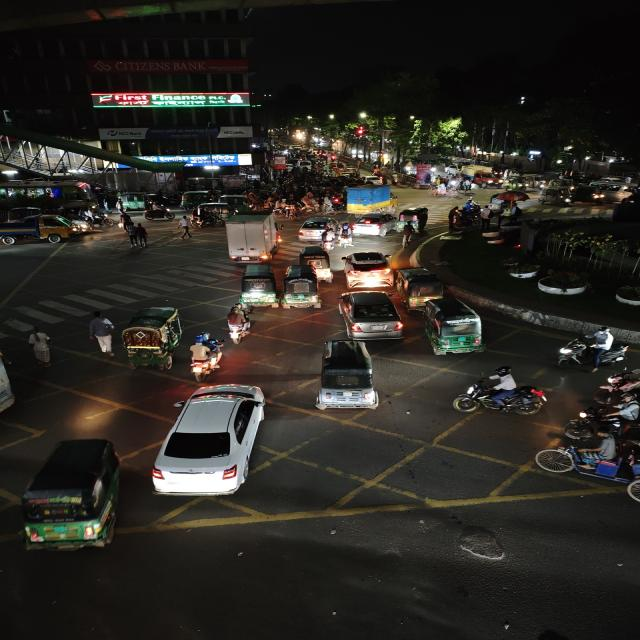bicycle: (396, 223, 418, 252)
bus: (3, 179, 101, 213)
car: (149, 381, 273, 501), (335, 288, 406, 340), (338, 250, 396, 288), (347, 212, 396, 240), (298, 246, 334, 281), (296, 215, 338, 244)
cng: (18, 434, 124, 556), (312, 336, 383, 416), (419, 298, 488, 360), (396, 266, 446, 305), (280, 268, 322, 312), (238, 264, 278, 308), (398, 205, 432, 231), (538, 185, 574, 208), (572, 183, 606, 205), (116, 193, 156, 210), (218, 195, 254, 210), (178, 192, 212, 206), (506, 176, 528, 190)
motorcycle: (456, 366, 550, 422), (552, 330, 615, 370), (593, 370, 640, 418), (187, 334, 226, 381), (219, 302, 254, 346), (142, 206, 181, 222), (338, 223, 358, 250)
pedestrian: (83, 308, 117, 359), (22, 326, 58, 370), (126, 221, 150, 249), (446, 206, 464, 232), (477, 205, 494, 230), (177, 216, 194, 240)
pickup_van: (6, 212, 79, 250)
rickshaw: (536, 424, 635, 486), (119, 302, 182, 373), (281, 198, 306, 218)
truck: (221, 210, 283, 264), (342, 182, 399, 214), (461, 163, 502, 189)
